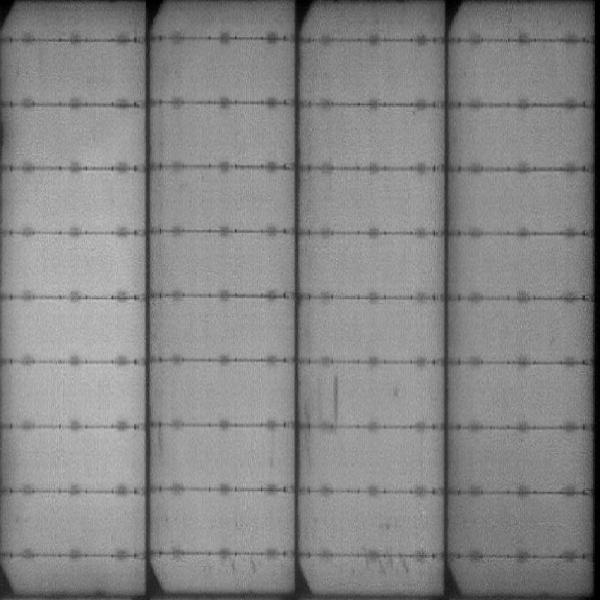scratch: (366, 554, 421, 577), (329, 370, 347, 433)
